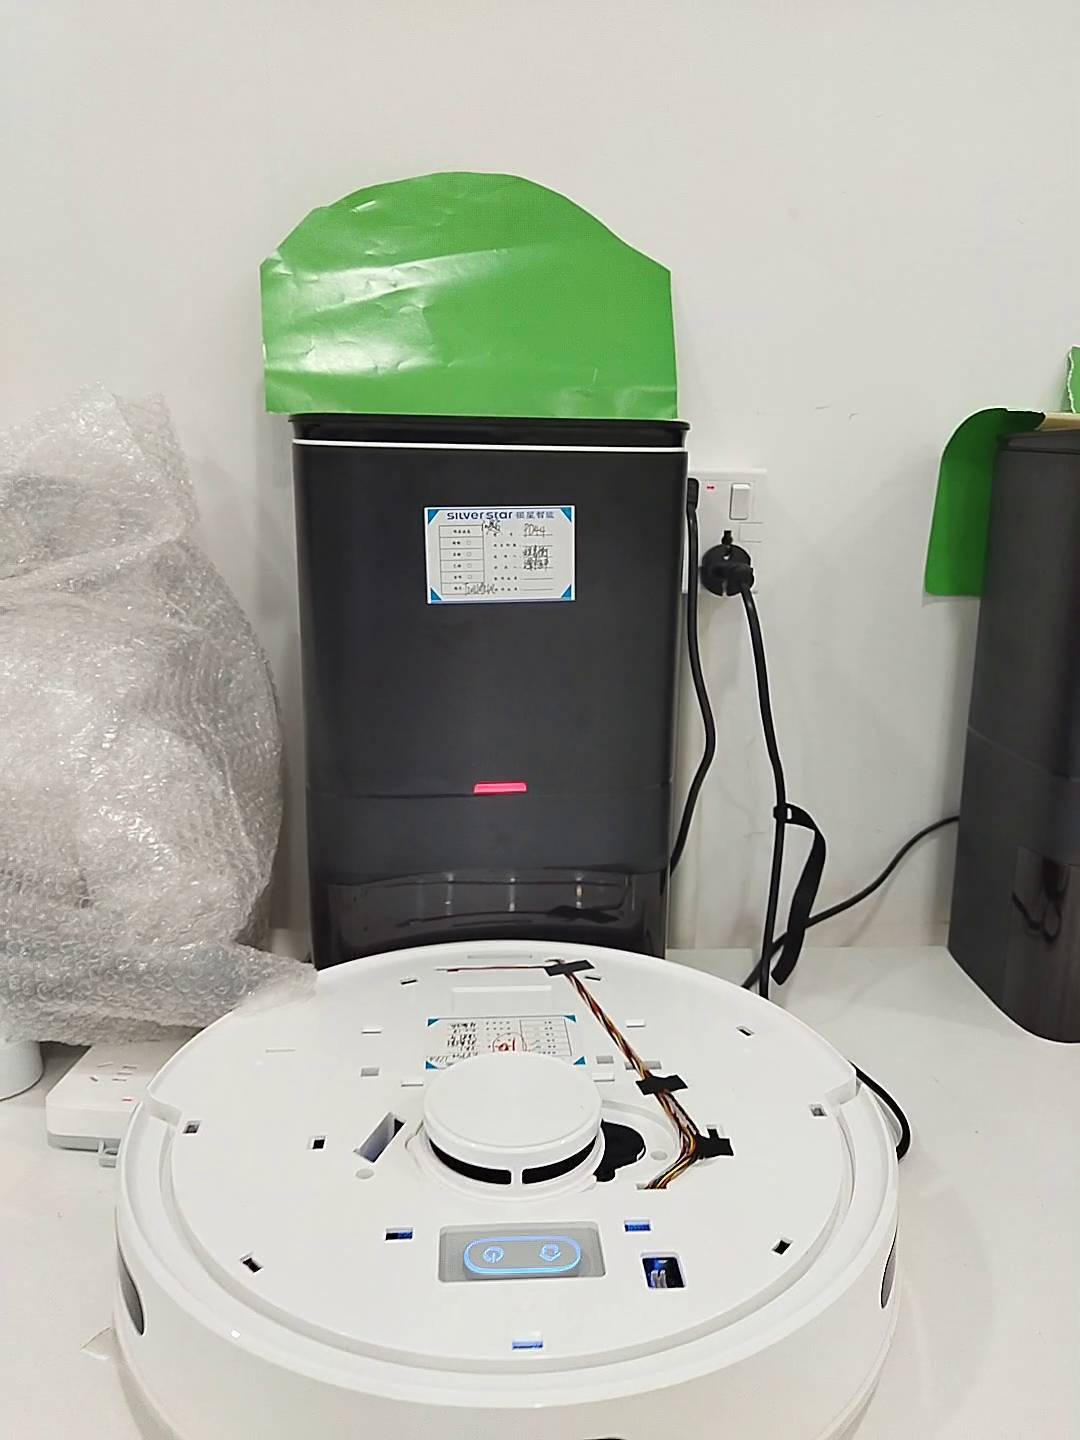dust collecting barrel: (285, 412, 690, 972), (950, 425, 1080, 1048)
